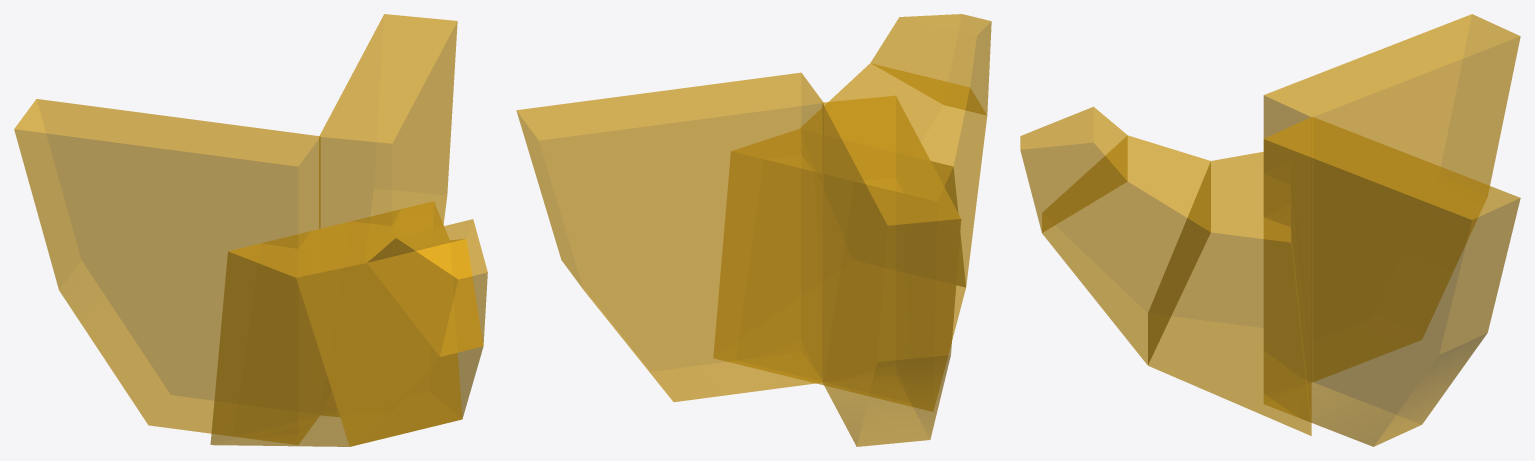
The model's file is SM_Veh_Ship_S_Figurehead_01_Collision.fbx.
The picture shows the model from 3 angles, left to right: view 1: azimuth 30°, elevation 25°; view 2: azimuth 150°, elevation 25°; view 3: azimuth 270°, elevation 25°; orthographic projection. The views are drawn at different scales.
Parts seen in each view (by area): view 1: SM_Veh_Ship_S_Figurehead_01_Collision; view 2: SM_Veh_Ship_S_Figurehead_01_Collision; view 3: SM_Veh_Ship_S_Figurehead_01_Collision.
Part boxes in pixels (left/top/right/bottom): SM_Veh_Ship_S_Figurehead_01_Collision: left=14, top=14, right=487, bottom=446; SM_Veh_Ship_S_Figurehead_01_Collision: left=516, top=14, right=991, bottom=446; SM_Veh_Ship_S_Figurehead_01_Collision: left=1020, top=14, right=1520, bottom=446.
Size of the model in its own units: 504 by 306 by 517.
